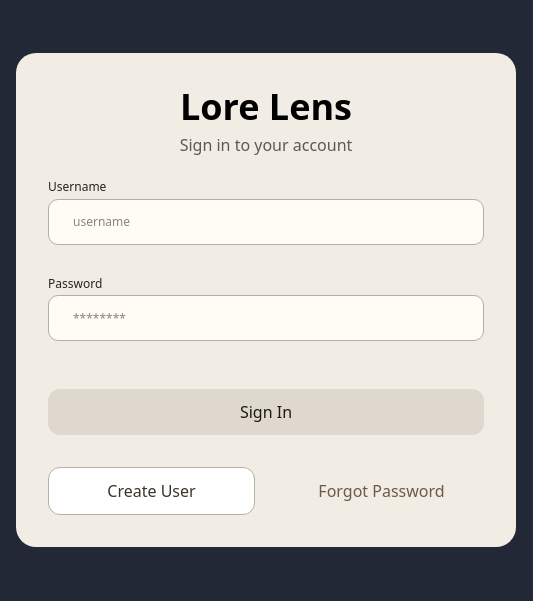
Scenario: LoginPage › error handling › shows the backend-provided message for invalid credentials without navigating away
In the field labelled "Username": (266, 222) 48,199 -> 484,245, type "lakhaniejaaz"
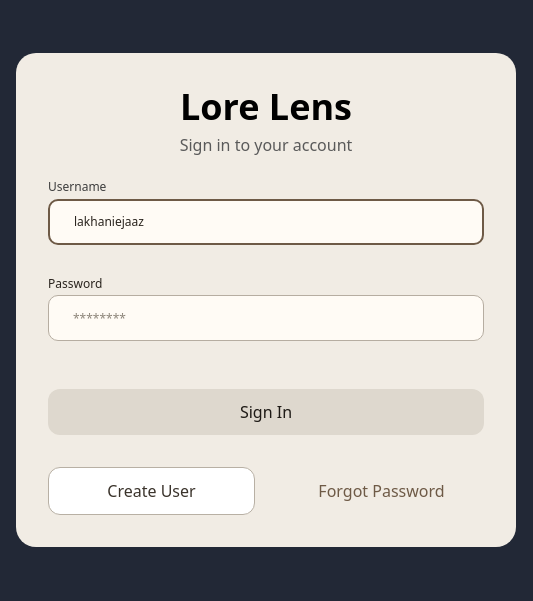
In the password field labelled "Password": (266, 318) 48,295 -> 484,341, type "wrongPassword"
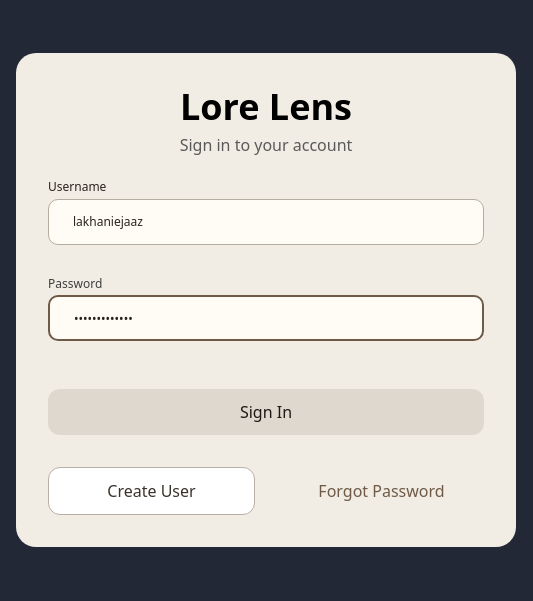
Click the button "Sign In": (266, 412) 48,389 -> 484,435
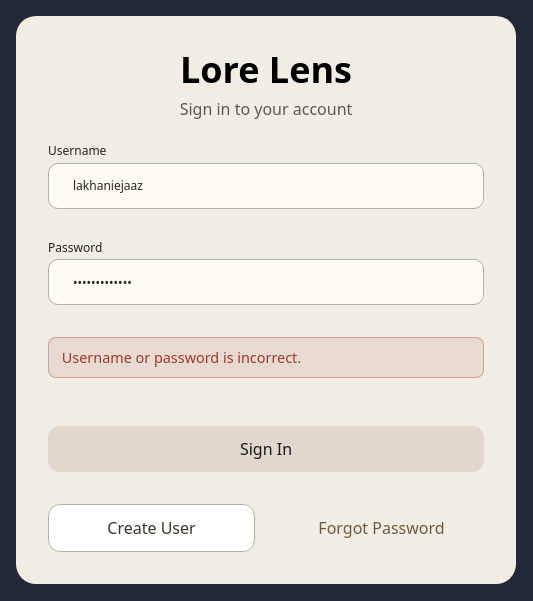
expect the message reads "Username or password is incorrect.": met, box 62,348 -> 301,367
